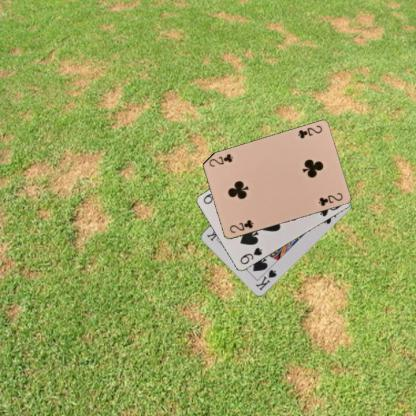2c: (227, 217, 255, 235), (295, 123, 323, 140)
9s: (238, 245, 264, 266)
Ks: (253, 267, 278, 292)
